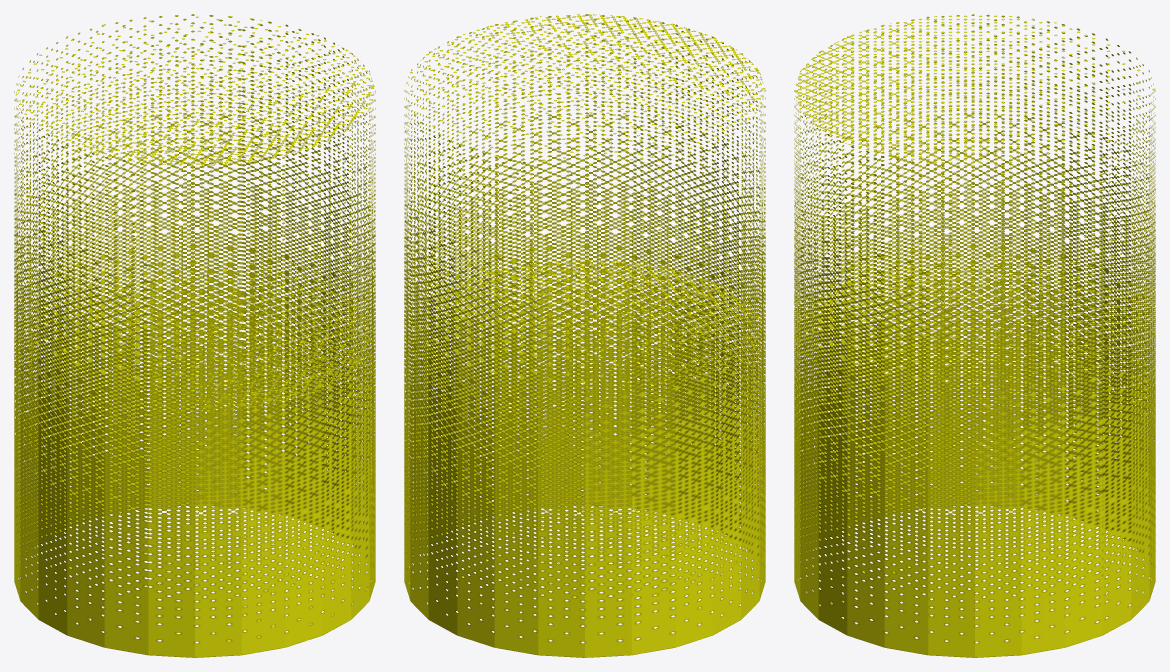
The model's file is goal2.obj.
3 views of the same model, side by side, from view 1: azimuth 30°, elevation 25°; view 2: azimuth 150°, elevation 25°; view 3: azimuth 270°, elevation 25° (orthographic).
Parts seen in each view (by area): view 1: entity0_brush0, entity0_brush1; view 2: entity0_brush0, entity0_brush1; view 3: entity0_brush0, entity0_brush1.
Boxes of the visible parts, <box> form: entity0_brush0: <box>14,259,375,657</box>; entity0_brush1: <box>14,14,375,412</box>; entity0_brush0: <box>404,259,765,657</box>; entity0_brush1: <box>404,14,765,412</box>; entity0_brush0: <box>794,259,1155,657</box>; entity0_brush1: <box>794,14,1155,412</box>.
Bounding box in the file's own units: 128 × 192 × 128.
Materials: 1 (1 with a texture image).
